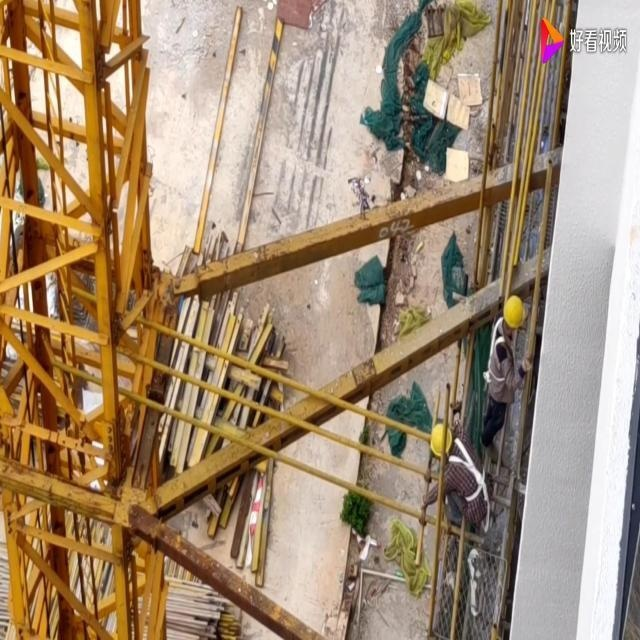Arnes_seguridad: (445, 434, 487, 505), (487, 312, 512, 386)
